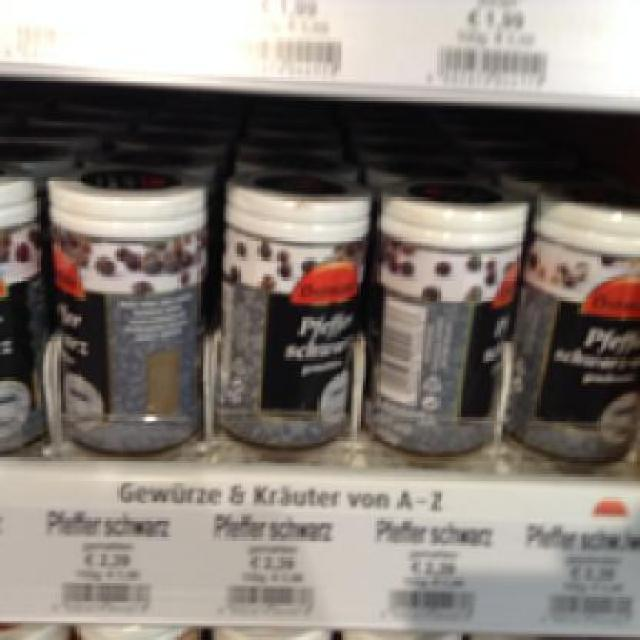Spices: (40, 162, 209, 455), (215, 162, 372, 452), (368, 176, 526, 452), (508, 182, 638, 455)
